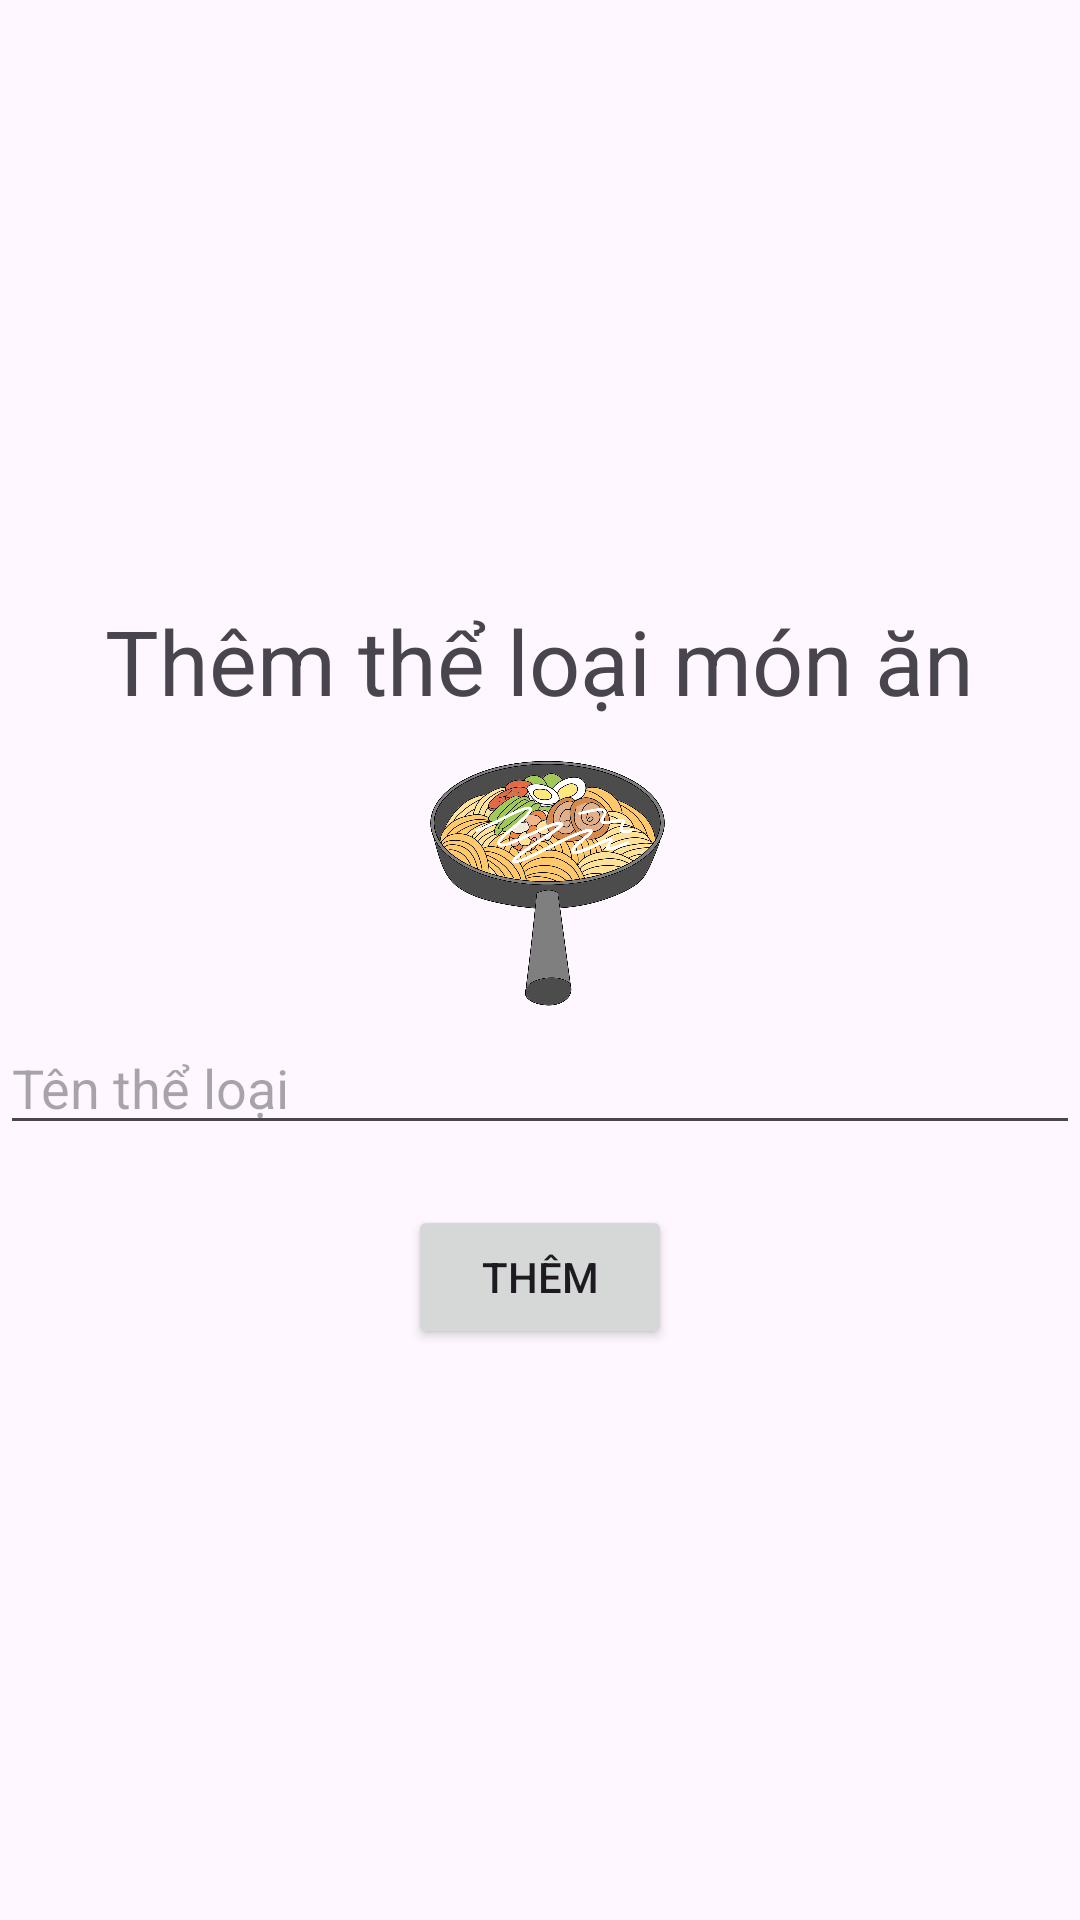

Named icons in this screenshot (1080x1920) and their centers, point (x, y):
monxao: point (547, 883)
